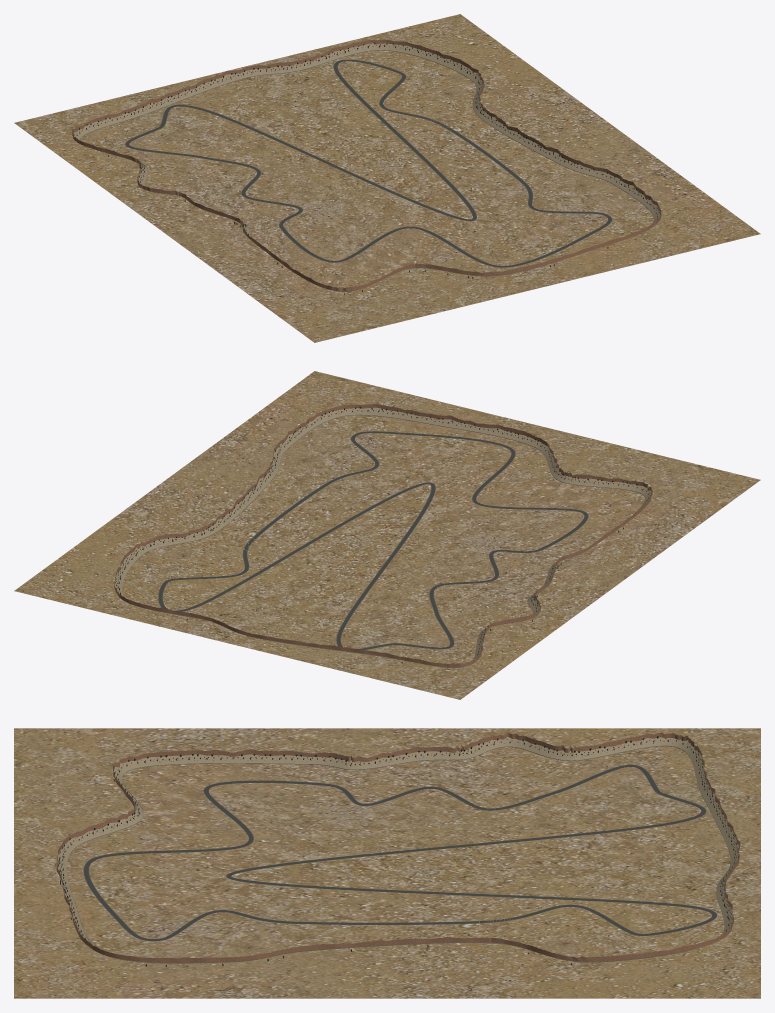
3 views of the same model, one above another, from view 1: azimuth 30°, elevation 25°; view 2: azimuth 150°, elevation 25°; view 3: azimuth 270°, elevation 25° (orthographic). The views are drawn at different scales.
Parts seen in each view (by area): view 1: Plane, RaceTrack_Wall_00, RaceTrack_Main_00, RaceTrack_Trees_00; view 2: Plane, RaceTrack_Wall_00, RaceTrack_Main_00, RaceTrack_Trees_00; view 3: Plane, RaceTrack_Wall_00, RaceTrack_Main_00, RaceTrack_Trees_00.
Part boxes in pixels (bbox=[...]): Plane: bbox=[14, 14, 760, 342]; RaceTrack_Wall_00: bbox=[72, 39, 661, 291]; RaceTrack_Main_00: bbox=[125, 59, 612, 267]; RaceTrack_Trees_00: bbox=[73, 43, 660, 294]; Plane: bbox=[14, 371, 760, 699]; RaceTrack_Wall_00: bbox=[114, 403, 652, 667]; RaceTrack_Main_00: bbox=[158, 431, 588, 649]; RaceTrack_Trees_00: bbox=[115, 407, 651, 665]; Plane: bbox=[14, 728, 760, 998]; RaceTrack_Wall_00: bbox=[56, 732, 740, 963]; RaceTrack_Main_00: bbox=[83, 764, 717, 941]; RaceTrack_Trees_00: bbox=[58, 736, 738, 966].
Size of the model in its own units: 1800 by 35.02 by 2100.
